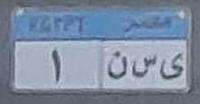1: (49, 48, 66, 83)
noon: (106, 50, 128, 81)
seen: (131, 52, 158, 81)
yaa: (159, 51, 184, 82)
